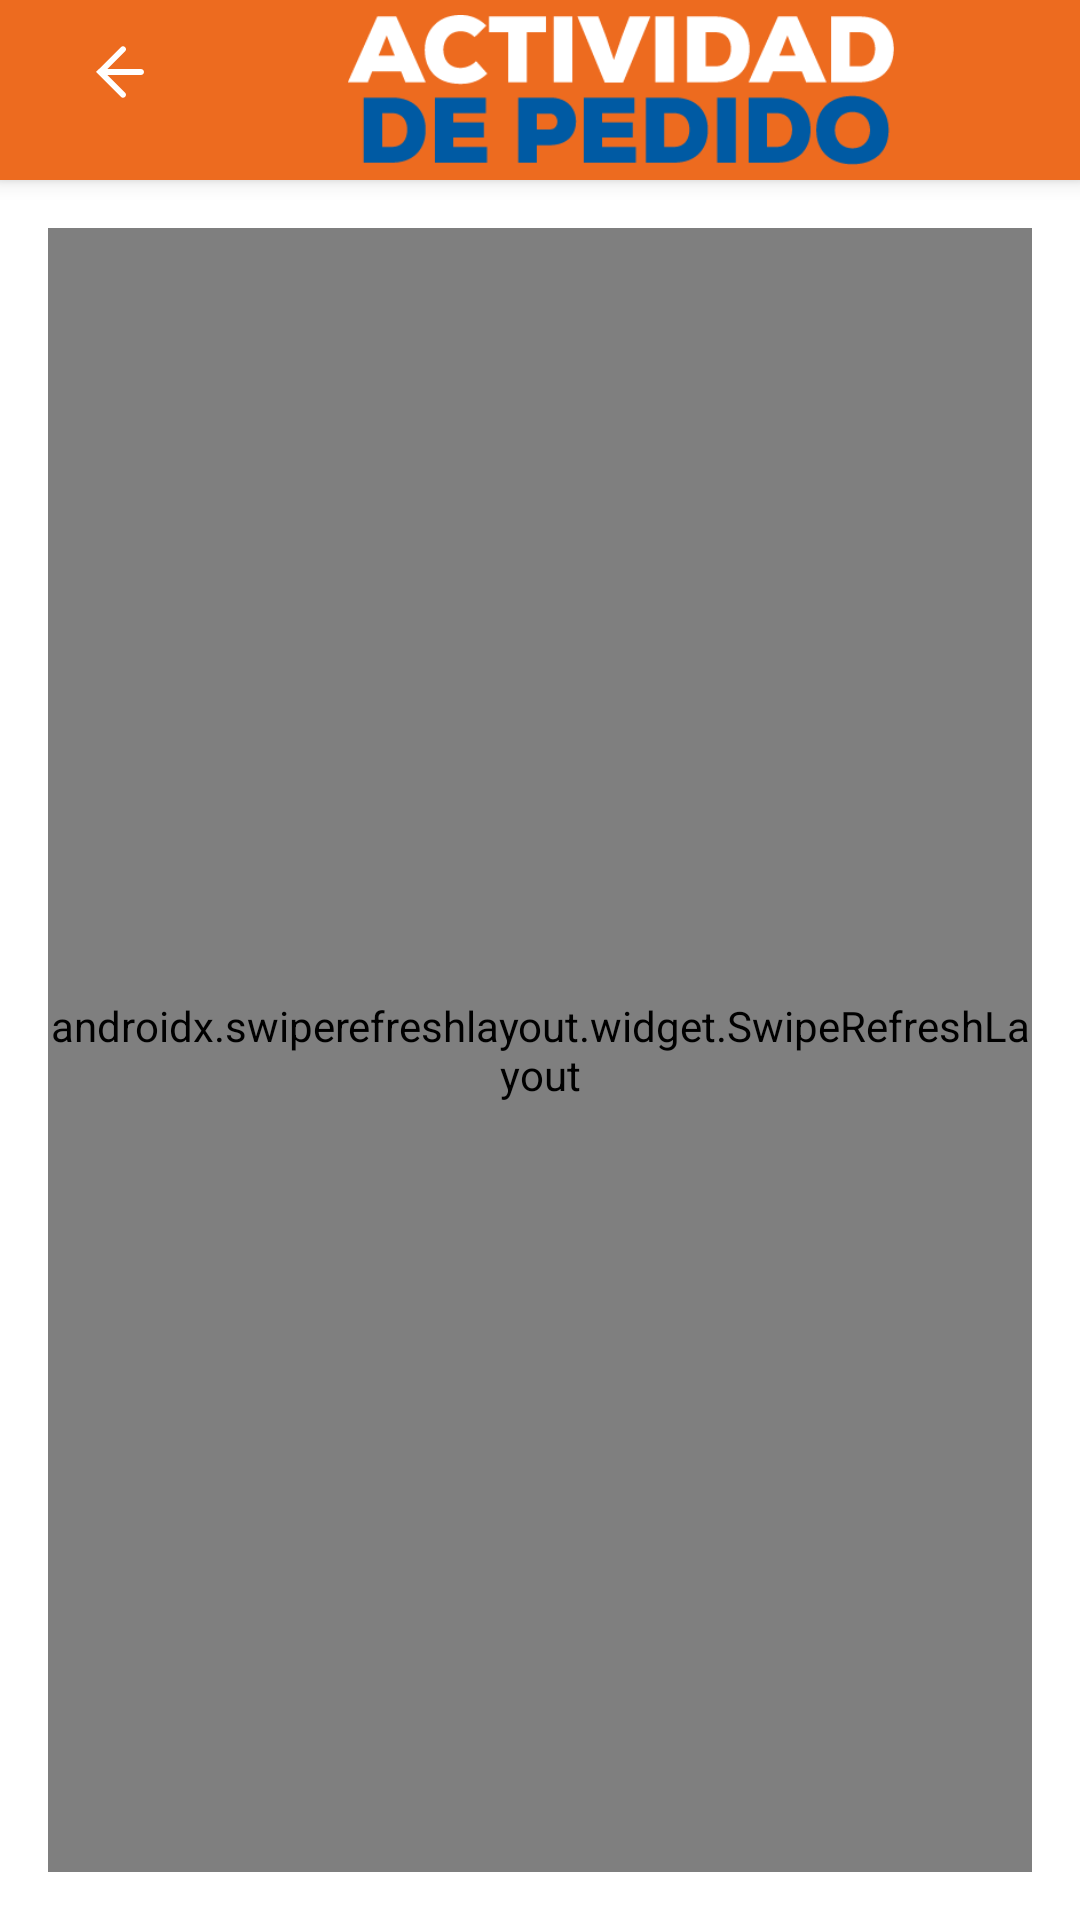

Locate icon controls on the screen. Image size 1080x1920, boxes as (x1, y1, x2, y2).
Volver: (96, 46, 144, 98)
